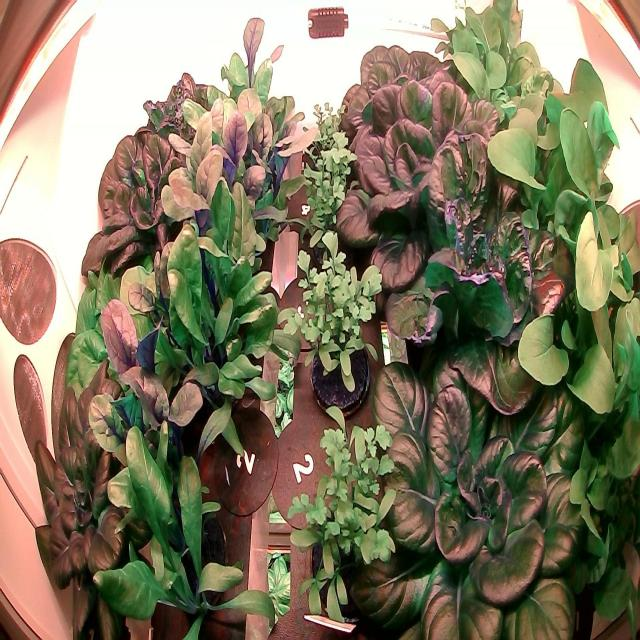Ready: (323, 295, 615, 638), (365, 116, 575, 372), (322, 70, 516, 301), (24, 356, 172, 638), (72, 120, 213, 316), (61, 256, 178, 463), (331, 28, 470, 195), (133, 59, 235, 196)
